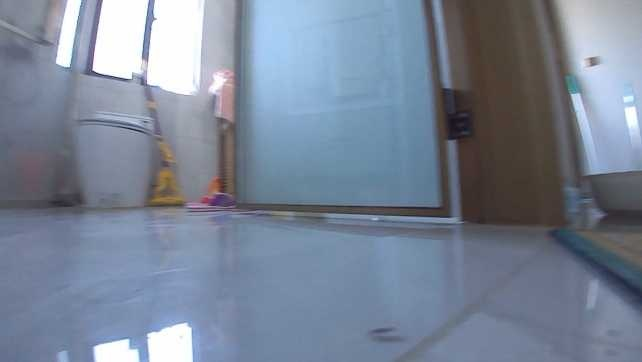door_anno: (229, 1, 570, 229)
slipper: (183, 191, 234, 211)
toilet: (76, 109, 156, 211)
